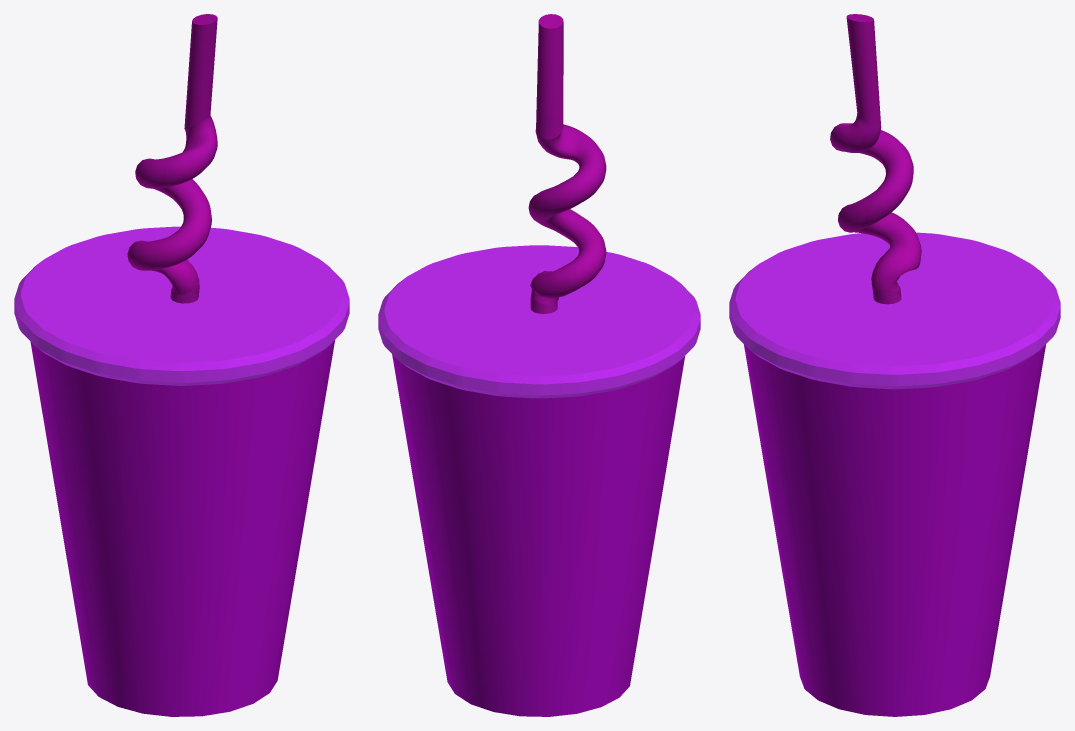
Rendered from prize3.fbx.
3 renders of one model, left to right at view 1: azimuth 30°, elevation 25°; view 2: azimuth 150°, elevation 25°; view 3: azimuth 270°, elevation 25°, orthographic. The views are drawn at different scales.
Visible parts, largest first — view 1: pasted__pasted__pasted__pCylinder1, pasted__pasted__pasted__pCylinder2, pHelix2; view 2: pasted__pasted__pasted__pCylinder1, pasted__pasted__pasted__pCylinder2, pHelix2; view 3: pasted__pasted__pasted__pCylinder1, pasted__pasted__pasted__pCylinder2, pHelix2.
Boxes of the visible parts, box(x1,y1,x2,y2) form: pasted__pasted__pasted__pCylinder1: box(30, 340, 334, 716); pasted__pasted__pasted__pCylinder2: box(14, 226, 349, 385); pHelix2: box(127, 14, 217, 303); pasted__pasted__pasted__pCylinder1: box(392, 354, 684, 716); pasted__pasted__pasted__pCylinder2: box(378, 245, 700, 398); pHelix2: box(528, 14, 606, 313); pasted__pasted__pasted__pCylinder1: box(744, 344, 1045, 716); pasted__pasted__pasted__pCylinder2: box(729, 232, 1060, 389); pHelix2: box(830, 14, 921, 304).
Bounding box in the file's own units: 7.78 × 17.19 × 7.78.
